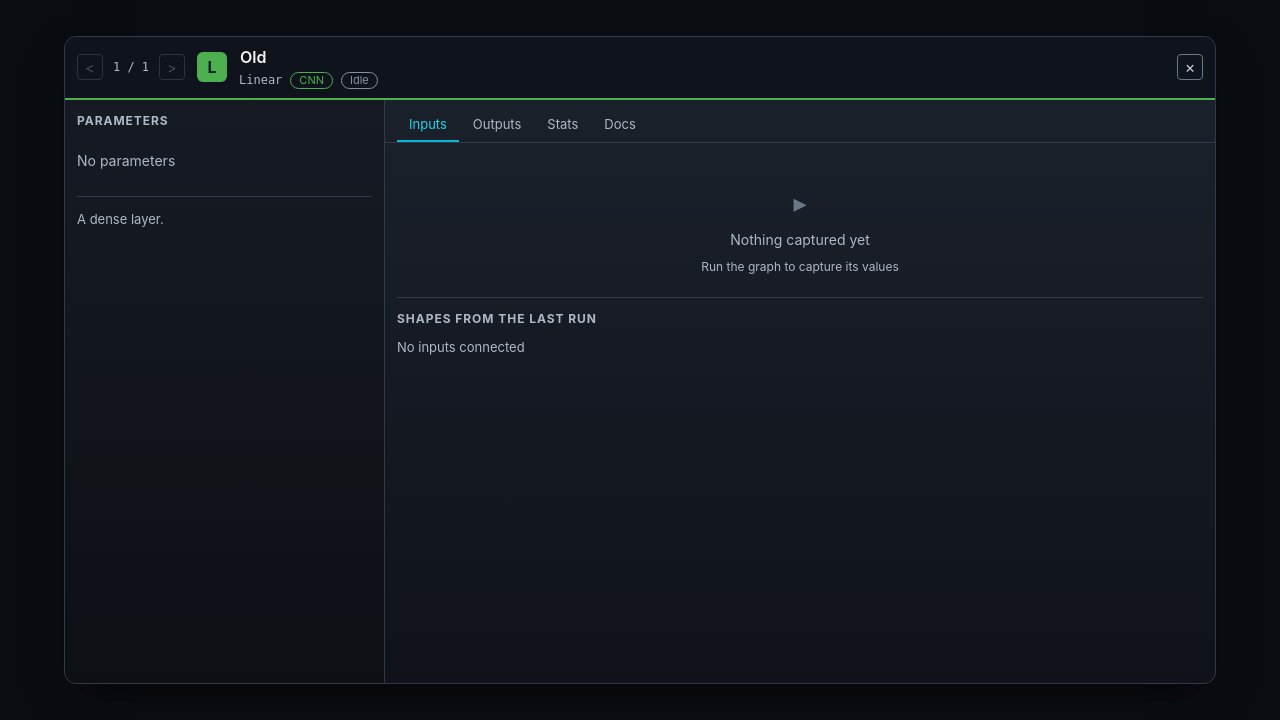
Scenario: NodeDetailModal — header › renames inline: Enter commits through renameNode as one undo step
Click the button "Old" at point(253, 57), box [234,45,272,69]
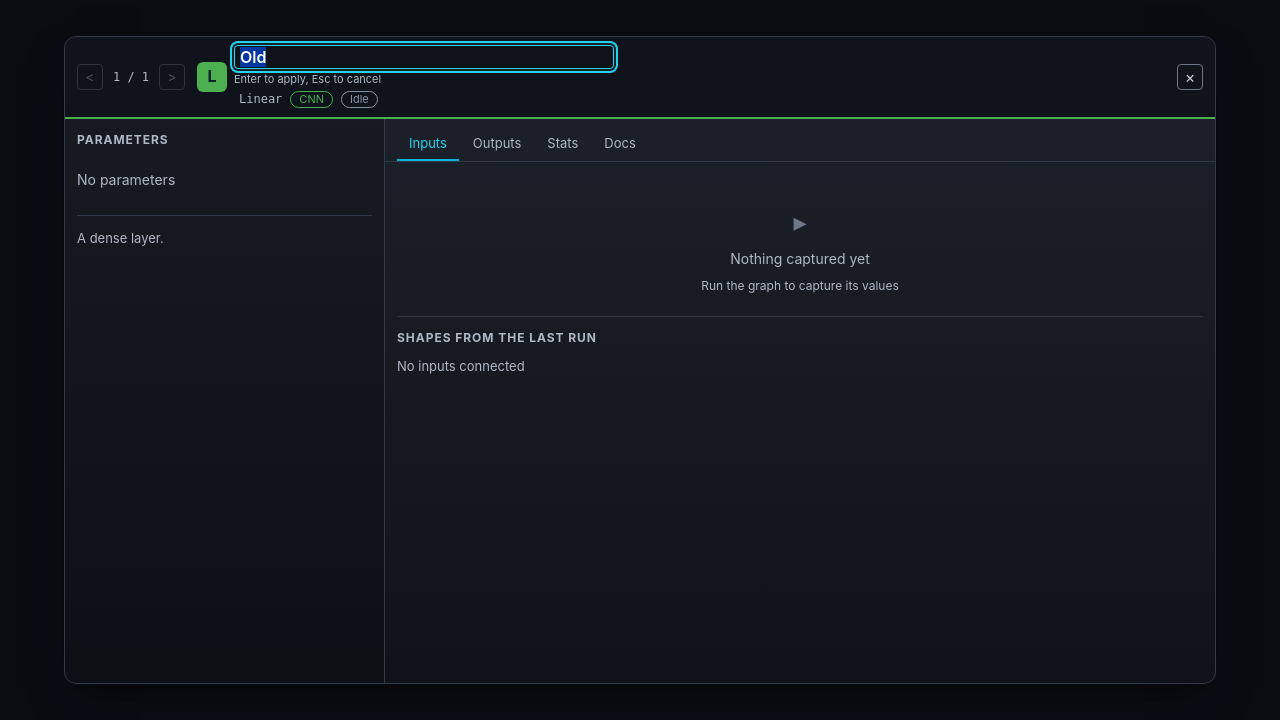
Replace the text in the field named "Node name" with "  New name  " at point(424, 57), box [234,45,614,69]
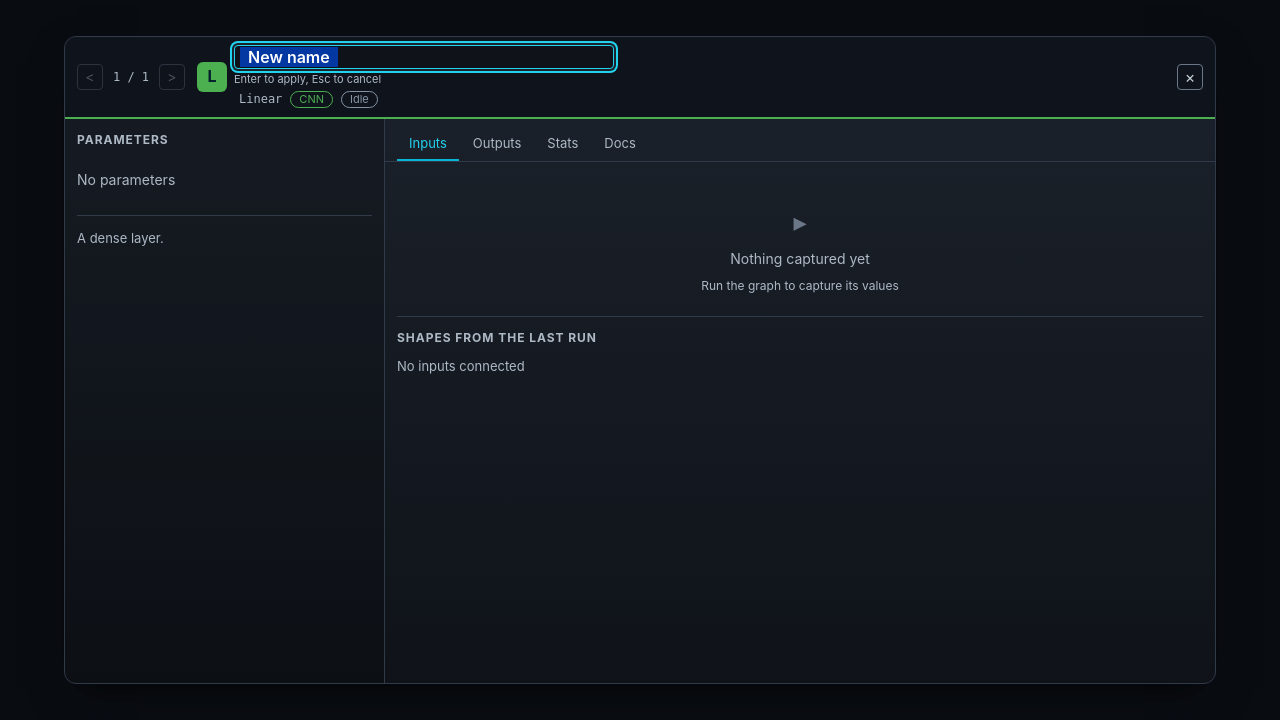
Press Enter in the field named "Node name", box [234,45,614,69]
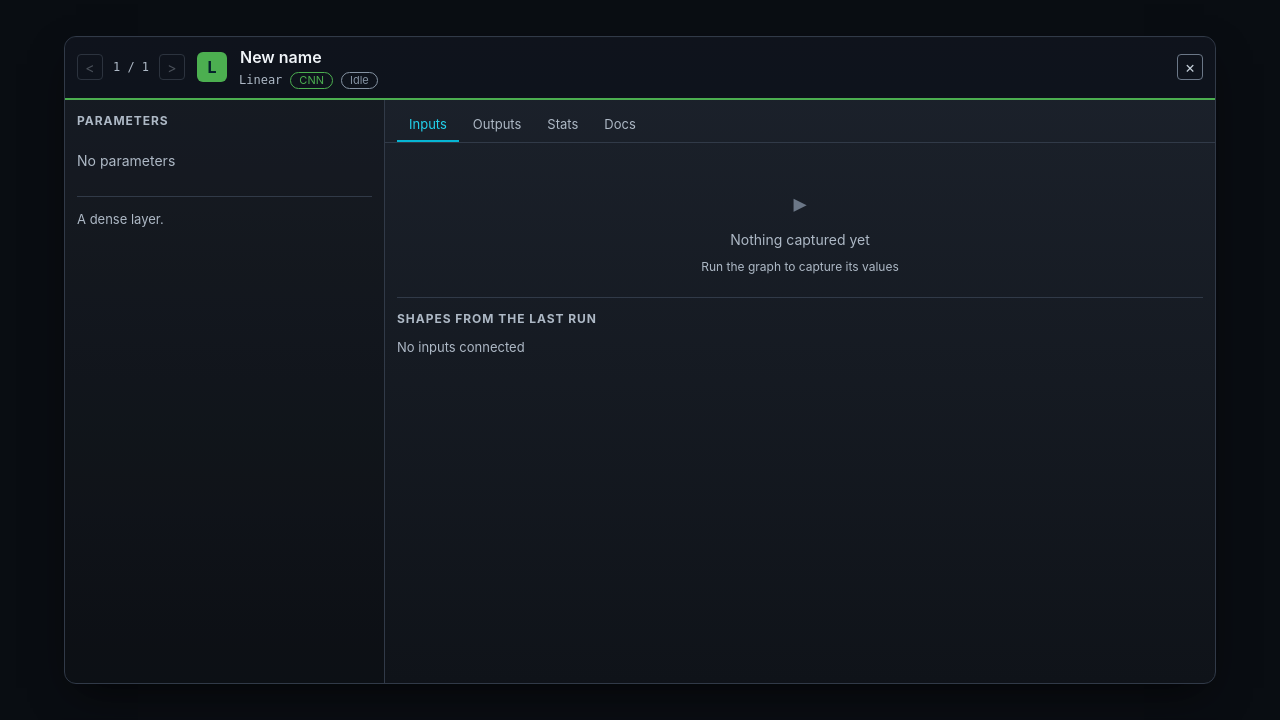
Check: the button "New name" is shown, box [234,45,328,69]
